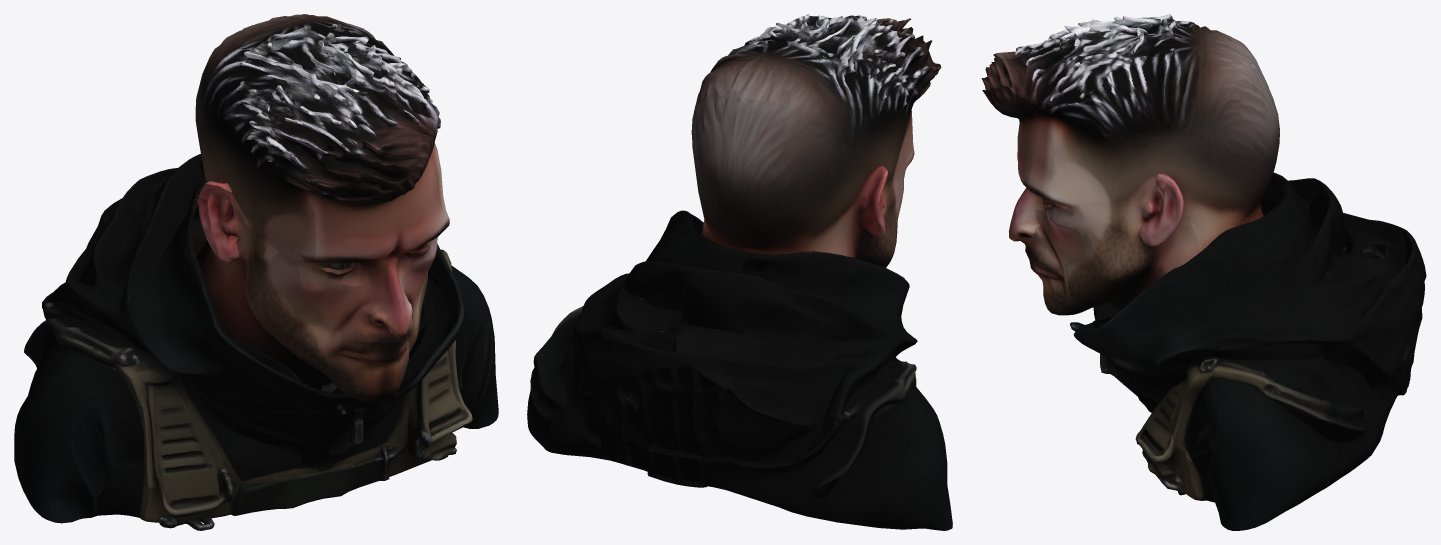
Rendered from infantry-soldier.glb.
3 views of the same model, side by side, from view 1: azimuth 30°, elevation 25°; view 2: azimuth 150°, elevation 25°; view 3: azimuth 270°, elevation 25° (orthographic). The views are drawn at different scales.
Parts seen in each view (by area): view 1: geometry_0; view 2: geometry_0; view 3: geometry_0.
Part boxes in pixels (x1=…): geometry_0: x1=14, y1=14, x2=498, y2=530; geometry_0: x1=527, y1=14, x2=952, y2=530; geometry_0: x1=981, y1=14, x2=1426, y2=530.
Size of the model in its own units: 0.9999 by 0.9957 by 0.9769.
Materials: 1 (1 with a texture image).
